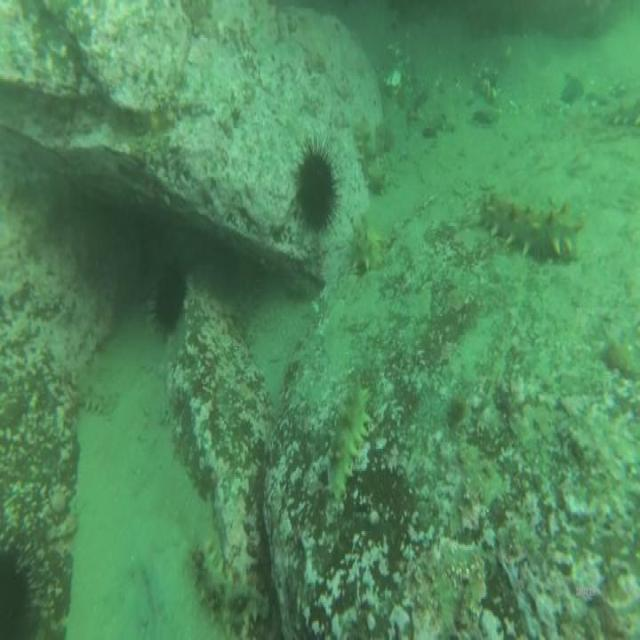echinus: (294, 144, 339, 240), (154, 257, 188, 332)
holothurian: (477, 185, 586, 270), (326, 371, 374, 501), (353, 110, 388, 198), (347, 208, 385, 280), (75, 374, 116, 420)
